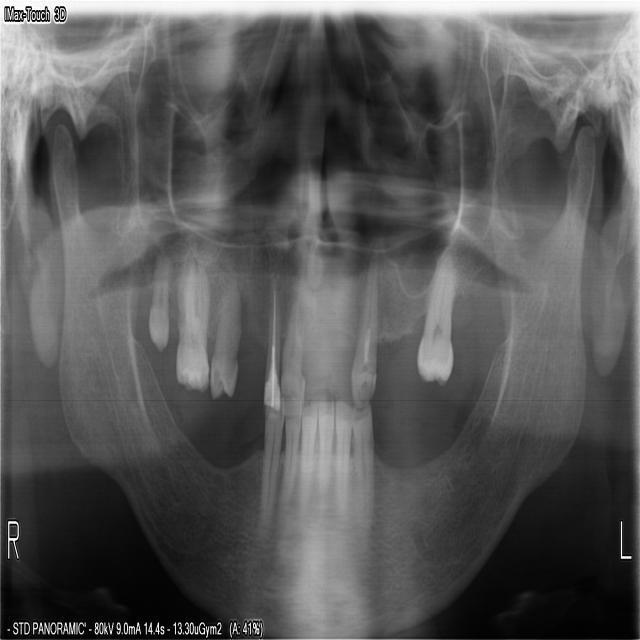LCD: (351, 403, 374, 527)
LCU: (350, 260, 380, 404)
LID: (332, 398, 352, 509), (315, 393, 335, 502)
LMU: (414, 248, 459, 389)
RCD: (257, 405, 284, 525)
RCU: (261, 275, 279, 410)
RID: (296, 393, 319, 522), (279, 415, 302, 504)
RIU: (279, 272, 304, 422)
RMU: (173, 257, 211, 395), (208, 273, 242, 398), (146, 260, 171, 353)
